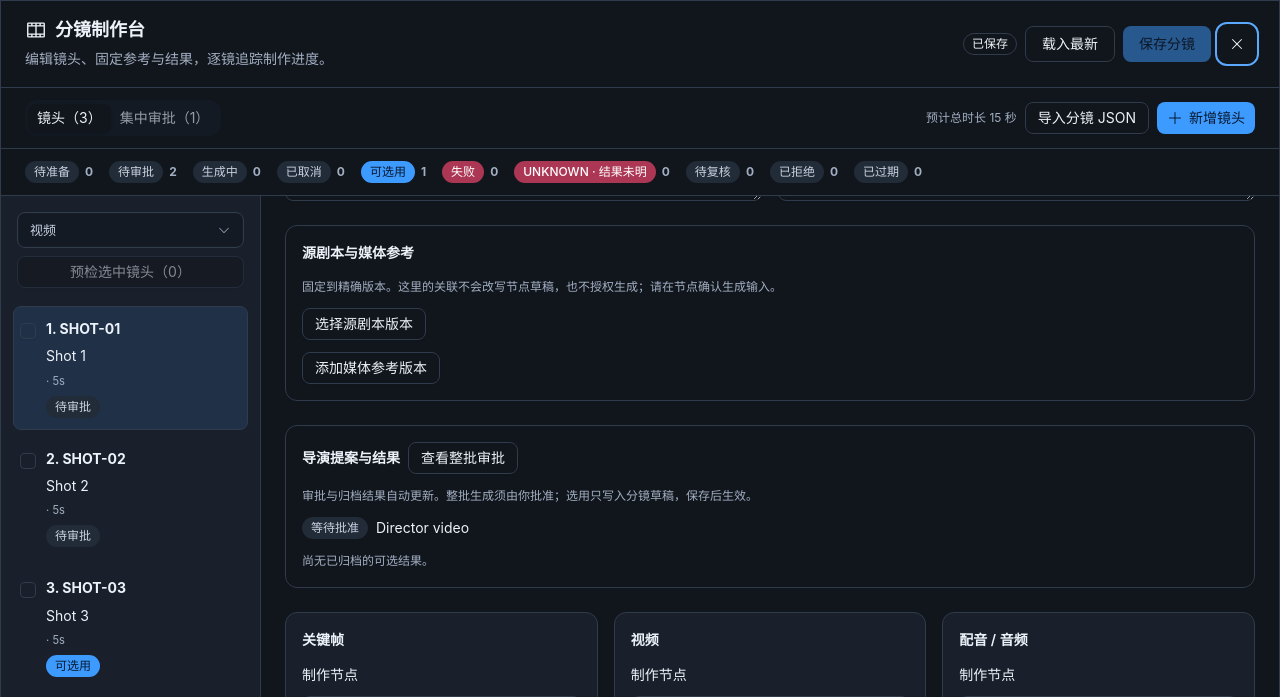
Test: storyboard workbench interaction › requires opening the complete batch before any explicit approval action
(page scrolled)
Click the button "查看整批审批" at (463, 458), box top-left (408, 442), bottom-right (518, 474)
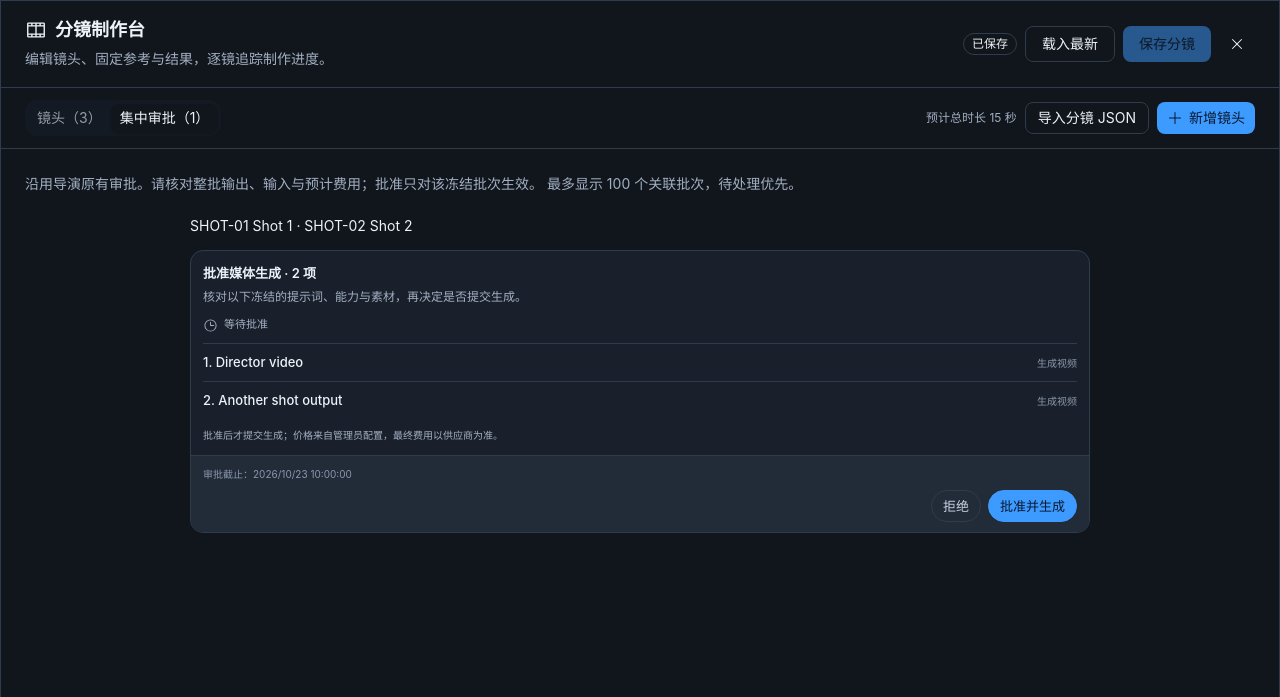
Expected: the text "2. Another shot output" is shown, top-left (203, 390), bottom-right (342, 411)
Expected: the button "批准并生成" is shown, top-left (988, 490), bottom-right (1077, 522)
